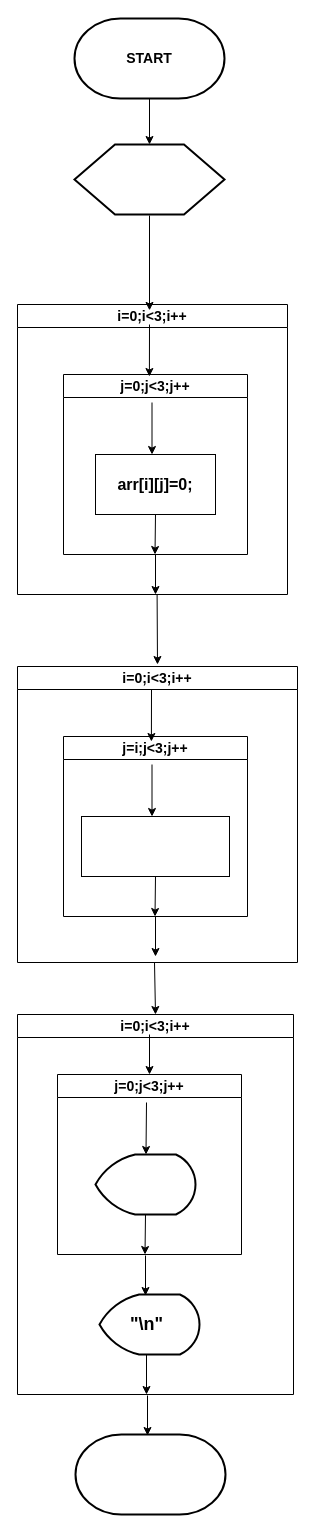
Image size: 315x1532. Some labels were removed from this diagram. Here are the shapes that lost their labels. From the top down, the box of each, then its label:
(73, 143, 225, 215): int i, j; int arr[3][3] int count = 1;
(80, 816, 230, 876): arr[i][j]=count++;
(94, 1153, 196, 1215): arr[i][j]+" "
(74, 1433, 226, 1515): END
